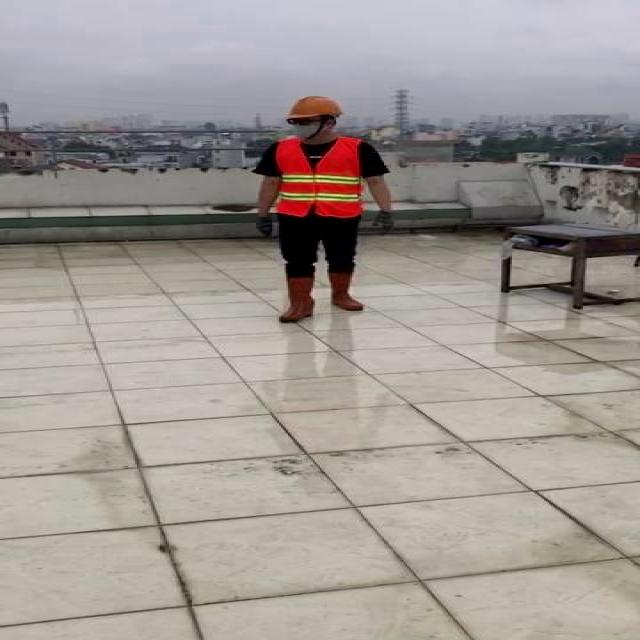boots: (281, 277, 315, 323), (330, 273, 364, 311)
face_mask: (284, 116, 320, 139)
glasses: (282, 116, 317, 127)
hand_glove: (371, 210, 393, 233), (256, 214, 276, 237)
head_helmet: (284, 94, 345, 120)
person: (253, 92, 401, 322)
vest: (274, 138, 361, 216)
